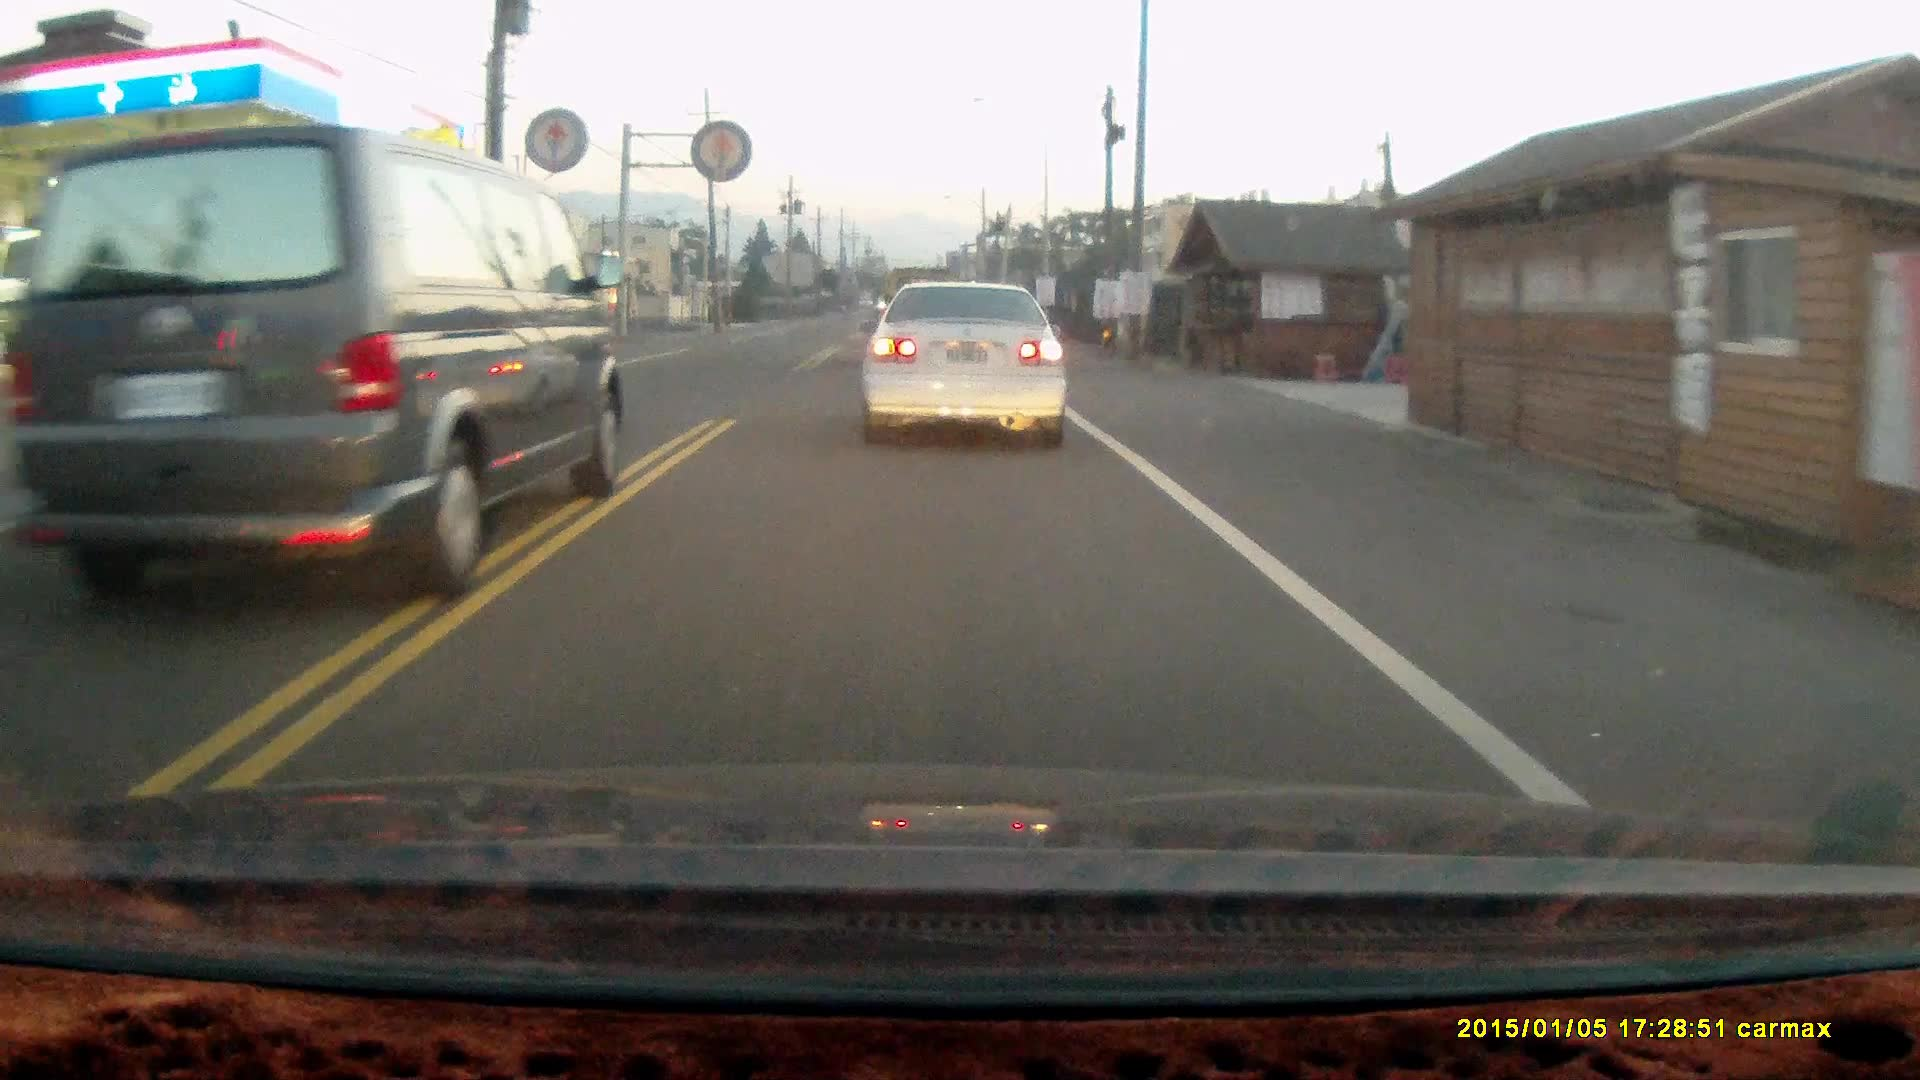vehicle: (5, 129, 615, 607), (862, 280, 1069, 455), (13, 200, 152, 365)
